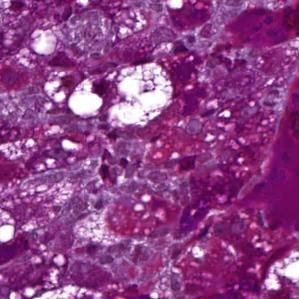ballooning: (67, 60, 174, 130)
